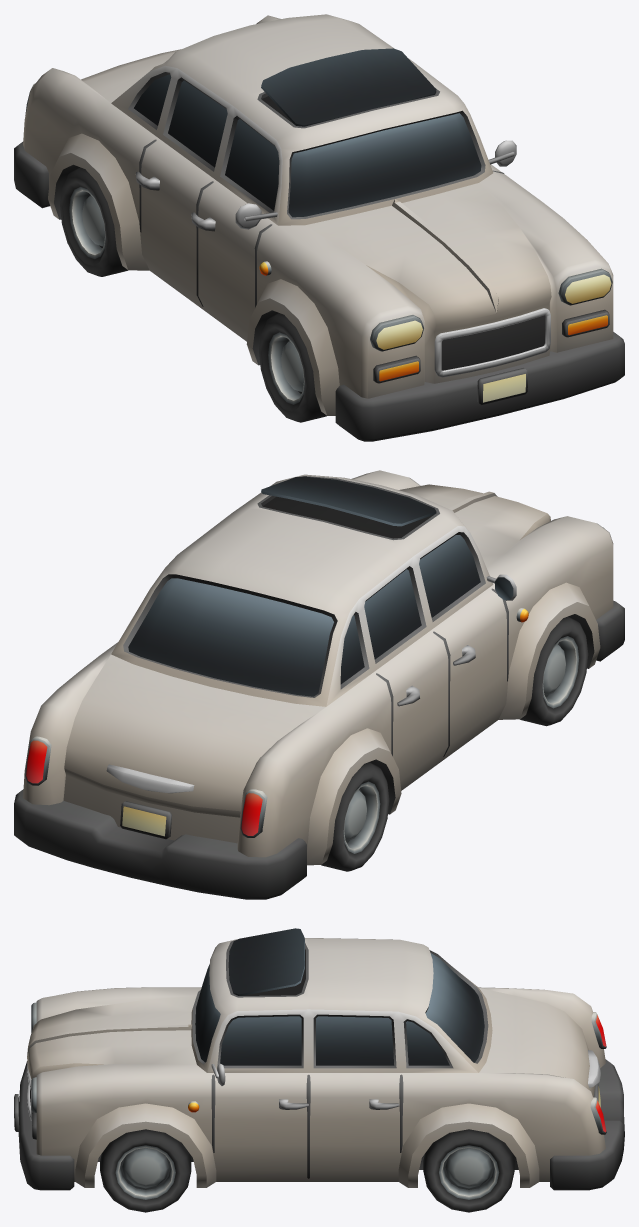
Rendered from Car_3B.fbx.
The picture shows the model from 3 angles, top to bottom: view 1: azimuth 30°, elevation 25°; view 2: azimuth 150°, elevation 25°; view 3: azimuth 270°, elevation 25°; orthographic projection. The views are drawn at different scales.
Parts seen in each view (by area): view 1: Car_3B, Wheel_3B_R.R, Wheel_3B_F.R; view 2: Car_3B, Wheel_3B_R.R, Wheel_3B_F.R; view 3: Car_3B, Wheel_3B_R.L, Wheel_3B_F.L.
Boxes of the visible parts, x1,y1,x2,y2 form: Car_3B: [14, 14, 624, 441]; Wheel_3B_R.R: [60, 167, 128, 276]; Wheel_3B_F.R: [259, 313, 326, 422]; Car_3B: [14, 470, 624, 899]; Wheel_3B_R.R: [321, 762, 389, 871]; Wheel_3B_F.R: [520, 616, 588, 726]; Car_3B: [14, 928, 624, 1190]; Wheel_3B_R.L: [423, 1129, 514, 1212]; Wheel_3B_F.L: [100, 1129, 191, 1212].
Bounding box in the file's own units: 2.43 × 2.12 × 5.62.
